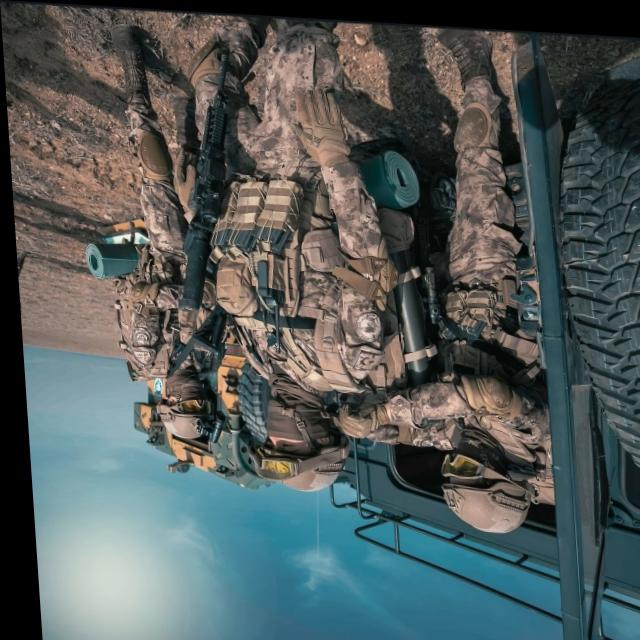poh_personel: (311, 19, 552, 530), (195, 9, 404, 495), (100, 22, 234, 443)
